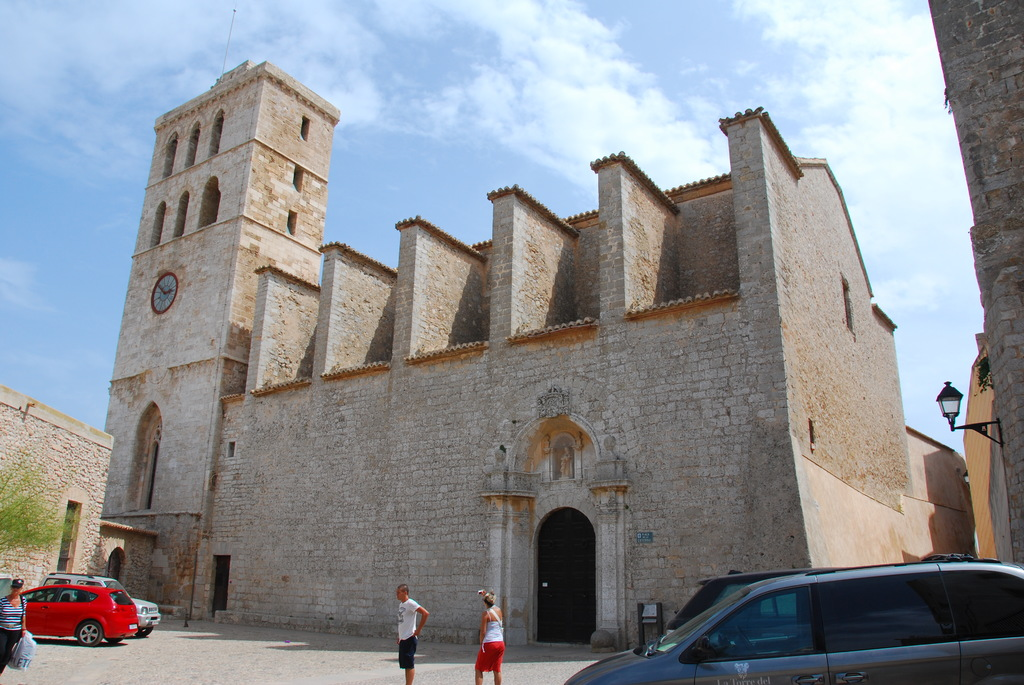Car: (560, 562, 1023, 684), (670, 571, 802, 658), (17, 582, 140, 647), (52, 576, 157, 635)
